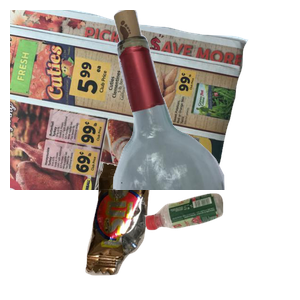glass: (89, 10, 300, 190)
paper: (10, 10, 250, 190)
plastic: (142, 191, 300, 300)
trash: (83, 160, 233, 300)
